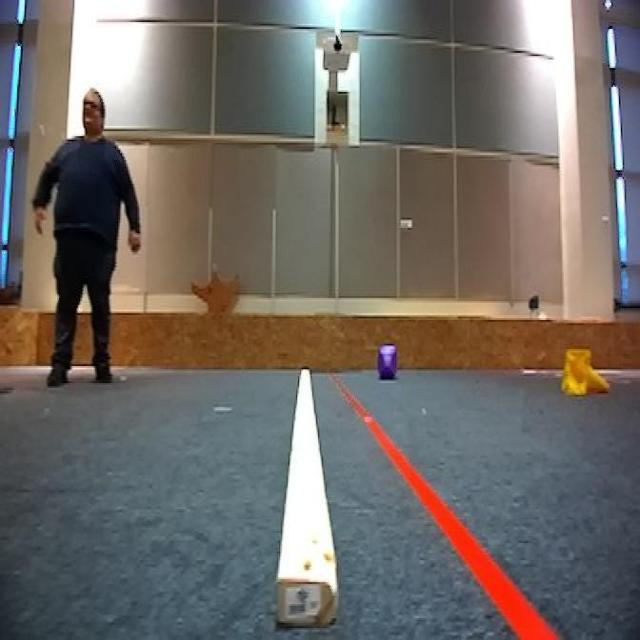frc_cone: (559, 344, 609, 398)
frc_cube: (376, 342, 400, 380)
